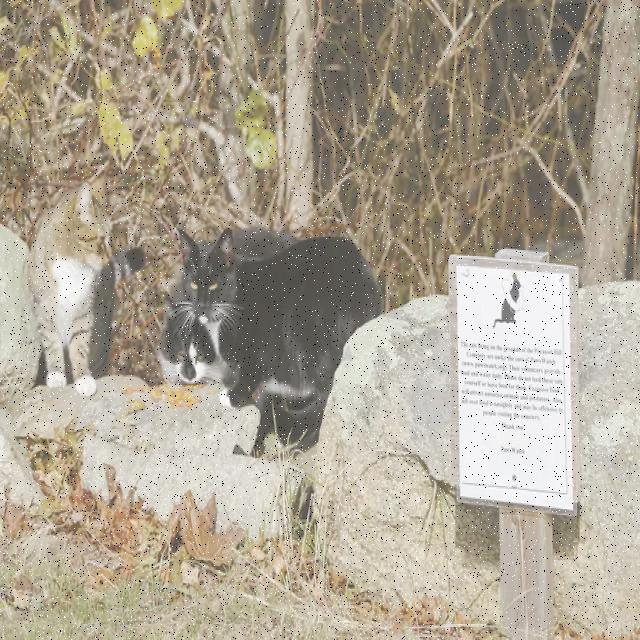cat: (181, 229, 381, 443), (29, 176, 145, 397), (158, 298, 222, 383)
